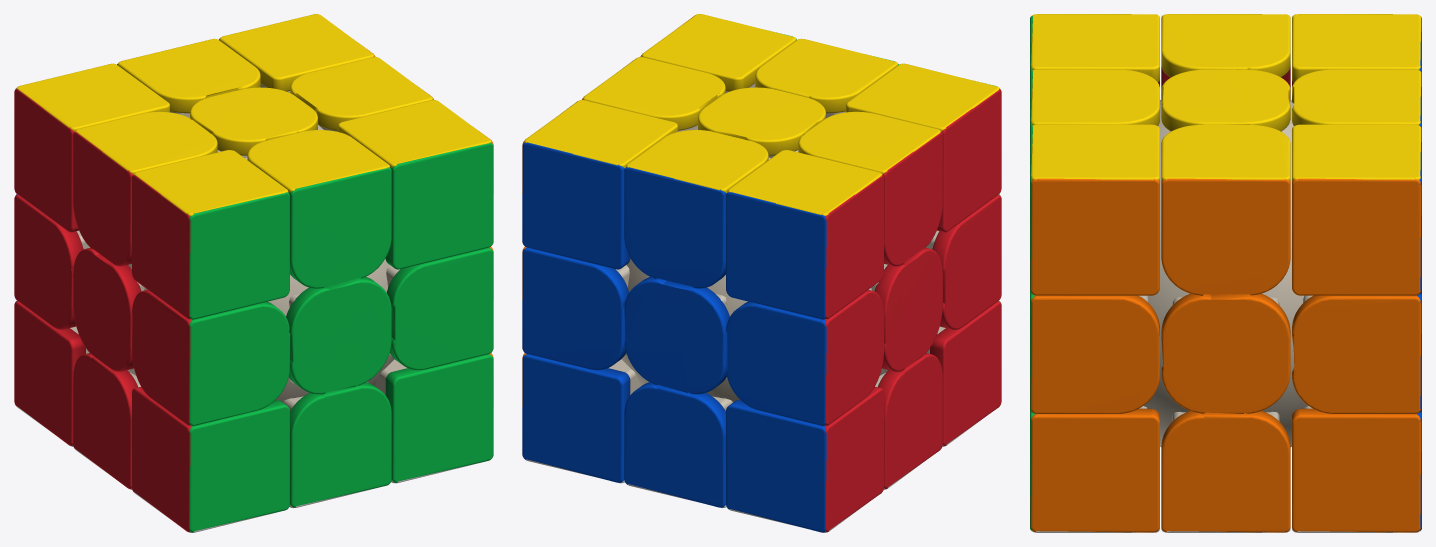
The picture shows the model from 3 angles, left to right: view 1: azimuth 30°, elevation 25°; view 2: azimuth 150°, elevation 25°; view 3: azimuth 270°, elevation 25°; orthographic projection. The views are drawn at different scales.
Parts seen in each view (by area): view 1: piece_-1,1,1, piece_-1,-1,1, piece_1,1,1, piece_-1,0,1, piece_0,1,1, piece_-1,1,-1, piece_1,-1,1, piece_-1,1,0, piece_1,0,1, piece_0,-1,1, piece_0,0,1, piece_-1,-1,-1 (+8 smaller); view 2: piece_-1,1,-1, piece_-1,-1,-1, piece_1,1,-1, piece_-1,0,-1, piece_0,1,-1, piece_-1,1,1, piece_1,-1,-1, piece_-1,1,0, piece_1,0,-1, piece_0,-1,-1, piece_0,0,-1, piece_-1,-1,1 (+8 smaller); view 3: piece_1,1,-1, piece_1,1,1, piece_1,1,0, piece_1,-1,1, piece_1,-1,-1, piece_1,-1,0, piece_1,0,1, piece_1,0,-1, piece_1,0,0, piece_-1,1,0, piece_-1,1,-1, piece_-1,1,1 (+4 smaller).
Part boxes in pixels (box(x1,y1,x2,y2)): piece_-1,1,1: box(132, 150, 289, 319); piece_-1,-1,1: box(132, 386, 289, 532); piece_1,1,1: box(338, 100, 493, 269); piece_-1,0,1: box(132, 289, 290, 425); piece_0,1,1: box(247, 130, 391, 288); piece_-1,1,-1: box(14, 63, 169, 232); piece_1,-1,1: box(375, 353, 493, 483); piece_-1,1,0: box(73, 111, 217, 266); piece_1,0,1: box(386, 247, 493, 370); piece_0,-1,1: box(283, 382, 391, 508); piece_0,0,1: box(286, 277, 391, 394); piece_-1,-1,-1: box(14, 301, 89, 446); piece_-1,1,-1: box(726, 150, 883, 319); piece_-1,-1,-1: box(726, 386, 883, 532); piece_1,1,-1: box(522, 100, 677, 269); piece_-1,0,-1: box(726, 289, 884, 425); piece_0,1,-1: box(624, 130, 768, 288); piece_-1,1,1: box(846, 63, 1001, 232); piece_1,-1,-1: box(522, 353, 640, 483); piece_-1,1,0: box(798, 111, 942, 266); piece_1,0,-1: box(522, 247, 629, 370); piece_0,-1,-1: box(624, 382, 732, 508); piece_0,0,-1: box(624, 277, 729, 394); piece_-1,-1,1: box(926, 301, 1001, 446); piece_1,1,-1: box(1292, 124, 1421, 295); piece_1,1,1: box(1030, 124, 1159, 295); piece_1,1,0: box(1161, 124, 1290, 295); piece_1,-1,1: box(1030, 406, 1159, 532); piece_1,-1,-1: box(1292, 406, 1421, 532); piece_1,-1,0: box(1161, 411, 1290, 532); piece_1,0,1: box(1030, 292, 1159, 413); piece_1,0,-1: box(1292, 292, 1421, 413); piece_1,0,0: box(1161, 293, 1290, 413); piece_-1,1,0: box(1161, 14, 1290, 99); piece_-1,1,-1: box(1292, 14, 1421, 86); piece_-1,1,1: box(1030, 14, 1159, 86).
Bounding box in the file's own units: 2 × 2 × 2.
